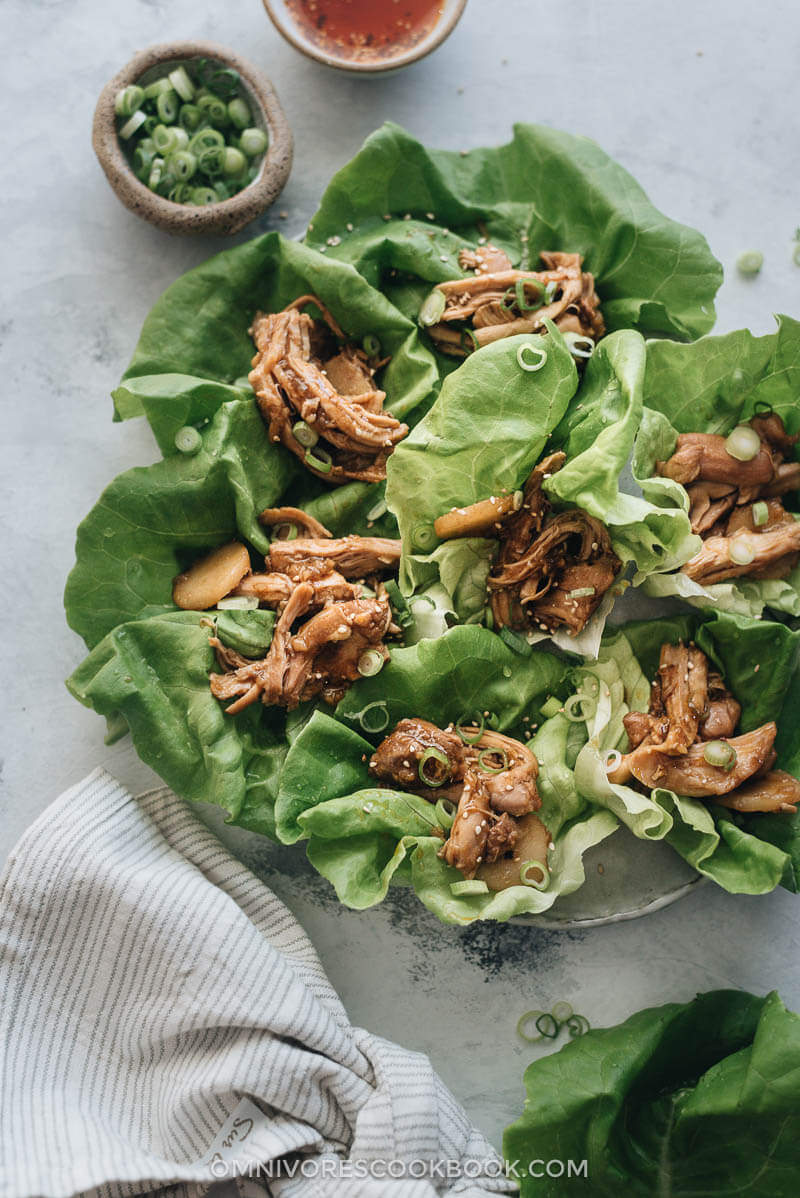chopped lettuce: (171, 241, 751, 859)
